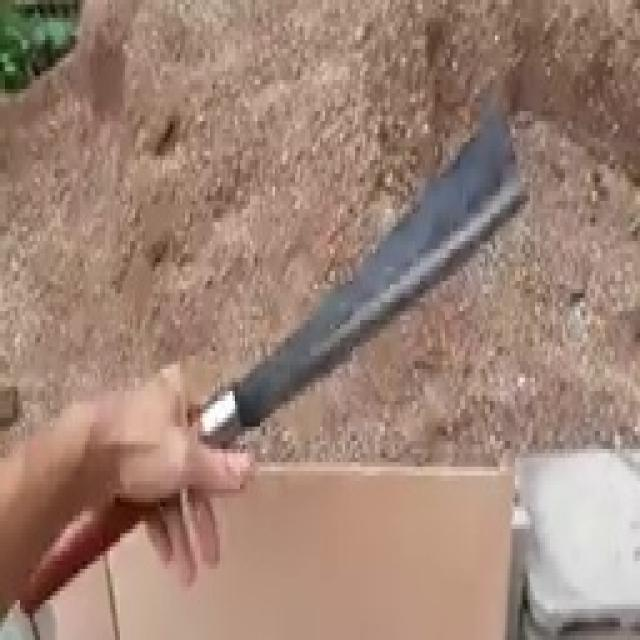eto: (15, 111, 527, 618)
